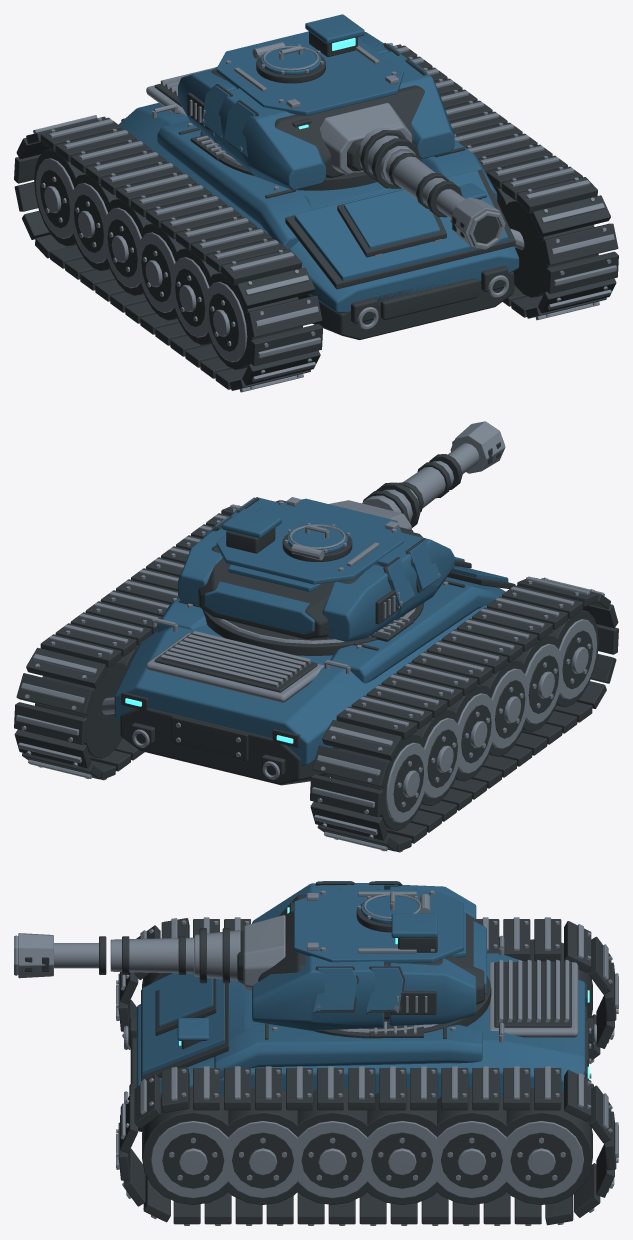
Rendered from tankHybrid.glb.
The picture shows the model from 3 angles, top to bottom: view 1: azimuth 30°, elevation 25°; view 2: azimuth 150°, elevation 25°; view 3: azimuth 270°, elevation 25°; orthographic projection. The views are drawn at different scales.
Visible parts, largest first — view 1: modelRoot-team-primary, turretYaw-team-primary, modelRoot-structure, turretYaw-structure, turretYaw-neutral-metal, barrelRecoil-neutral-metal, barrelRecoil-structure, wheelR0-structure, wheelL0-structure, modelRoot-neutral-metal, wheelL0-neutral-metal, wheelL5-structure (+40 smaller); view 2: turretYaw-team-primary, modelRoot-team-primary, modelRoot-structure, turretYaw-structure, modelRoot-neutral-metal, barrelRecoil-neutral-metal, turretYaw-neutral-metal, wheelR5-structure, wheelL5-structure, barrelRecoil-structure, wheelL0-structure, wheelL0-neutral-metal (+35 smaller); view 3: turretYaw-team-primary, modelRoot-team-primary, barrelRecoil-neutral-metal, modelRoot-structure, turretYaw-structure, modelRoot-neutral-metal, wheelR0-structure, wheelR5-structure, turretYaw-neutral-metal, wheelR4-structure, wheelR2-structure, wheelR3-structure (+48 smaller).
Boxes of the visible parts, x1,y1,x2,y2 form: modelRoot-team-primary: (118,103,519,312); turretYaw-team-primary: (178,14,454,190); modelRoot-structure: (121,83,515,339); turretYaw-structure: (187,31,426,190); turretYaw-neutral-metal: (189,42,411,175); barrelRecoil-neutral-metal: (358,128,505,249); barrelRecoil-structure: (360,130,499,243); wheelR0-structure: (506,200,598,297); wheelL0-structure: (207,272,302,369); modelRoot-neutral-metal: (146,67,524,329); wheelL0-neutral-metal: (205,282,247,362); wheelL5-structure: (34,149,85,246); turretYaw-team-primary: (178,497,454,641); modelRoot-team-primary: (114,557,508,766); modelRoot-structure: (120,560,515,785); turretYaw-structure: (187,497,438,655); modelRoot-neutral-metal: (102,566,462,779); barrelRecoil-neutral-metal: (362,421,505,522); turretYaw-neutral-metal: (217,497,440,644); wheelR5-structure: (35,661,126,758); wheelL5-structure: (331,733,425,830); barrelRecoil-structure: (363,440,500,527); wheelL0-structure: (549,610,598,707); wheelL0-neutral-metal: (557,619,597,699); turretYaw-team-primary: (252,881,486,1030); modelRoot-team-primary: (136,953,585,1099); barrelRecoil-neutral-metal: (14,930,240,980); modelRoot-structure: (129,962,593,1131); turretYaw-structure: (237,881,491,1038); modelRoot-neutral-metal: (124,935,596,1103); wheelR0-structure: (142,1087,233,1204); wheelR5-structure: (501,1088,592,1204); turretYaw-neutral-metal: (243,890,437,1032); wheelR4-structure: (432,1087,511,1204); wheelR2-structure: (293,1088,372,1204); wheelR3-structure: (362,1087,442,1204).
Size of the model in its own units: 2.07 by 1.23 by 2.88.
